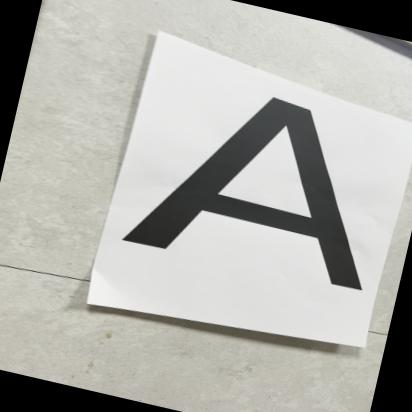seat: (119, 64, 410, 306)
